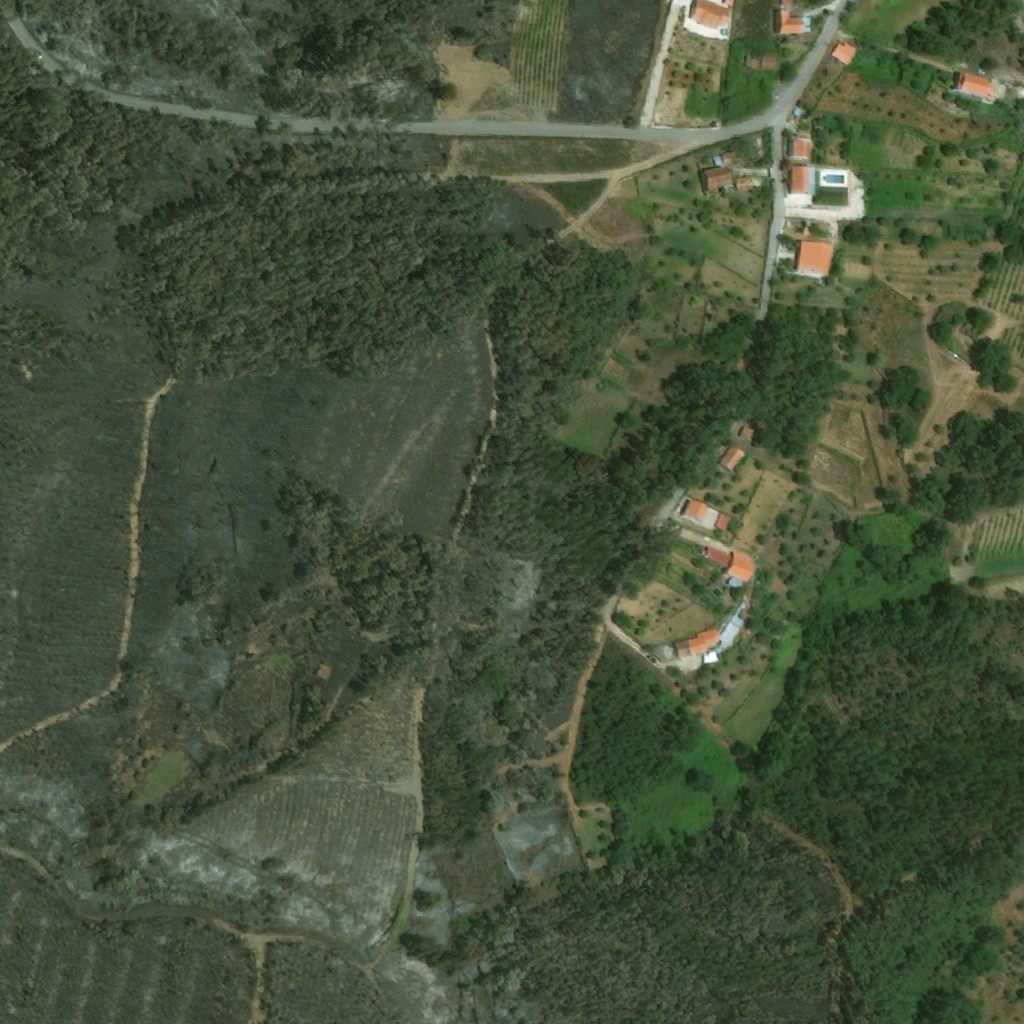0 no-damage: (794, 240, 837, 279), (675, 629, 722, 659), (690, 0, 734, 31), (701, 164, 737, 193), (726, 550, 757, 583), (777, 7, 813, 34), (959, 73, 996, 99), (789, 165, 815, 196), (722, 615, 746, 647), (703, 545, 732, 568), (721, 445, 747, 470), (684, 498, 711, 521), (833, 44, 856, 66), (789, 139, 812, 159), (716, 511, 733, 532), (720, 149, 741, 165), (740, 423, 756, 439), (737, 177, 754, 191), (704, 650, 720, 664), (762, 56, 777, 69)
4 un-classified: (782, 0, 795, 5)
